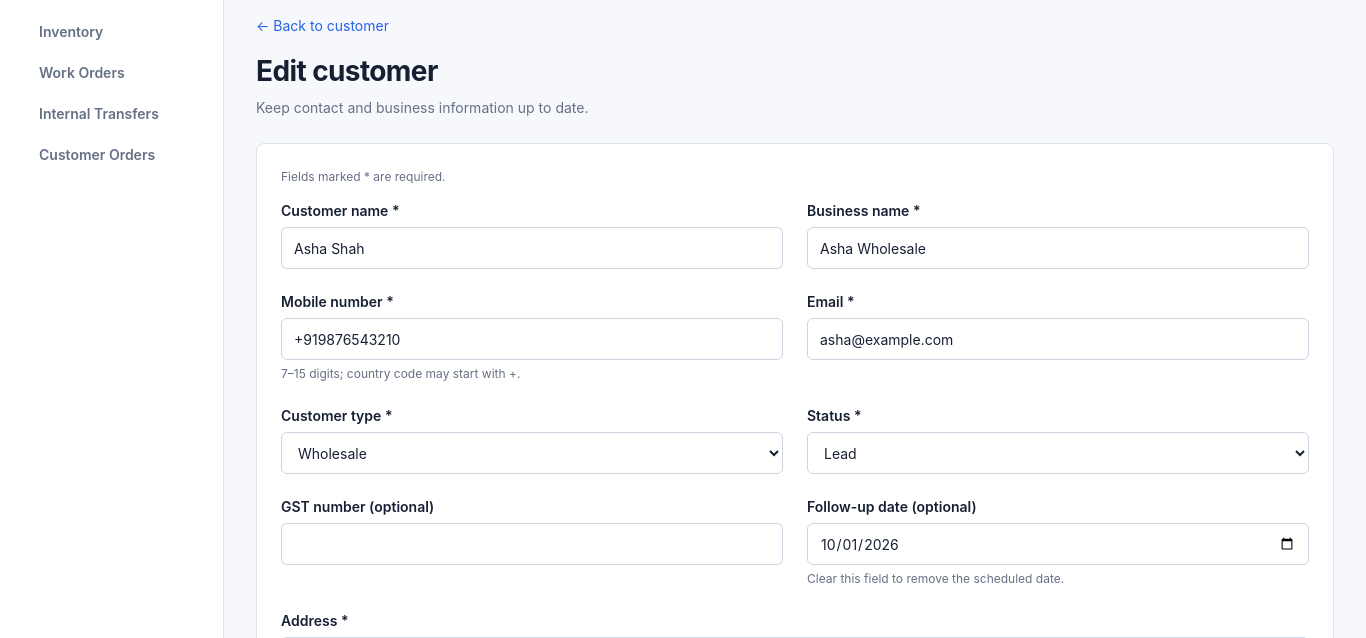
Test: customer forms and history › preserves edited values and shows server field errors
The image size is (1366, 638).
Replace the text in the field labelled "Customer name *" with "Updated Asha" at {"x": 532, "y": 248}, box [281, 227, 783, 269]
(page scrolled)
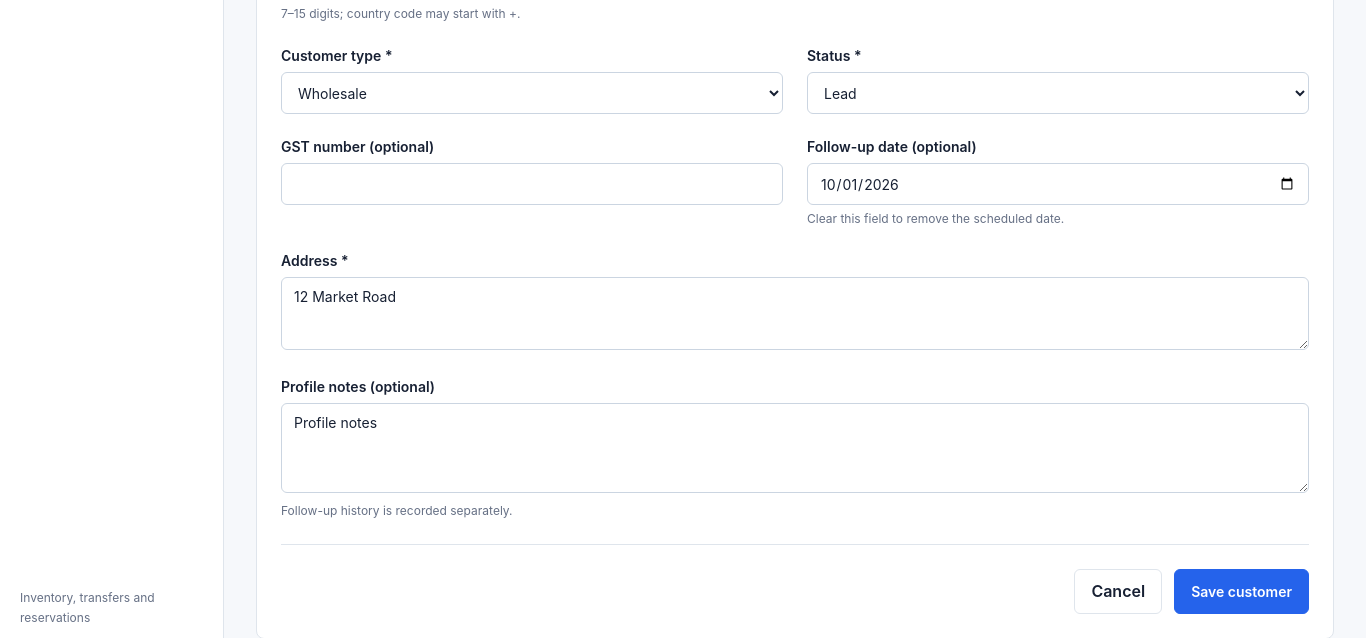
Click the button "Save customer" at {"x": 1242, "y": 592}, box [1174, 569, 1309, 614]
(page scrolled)
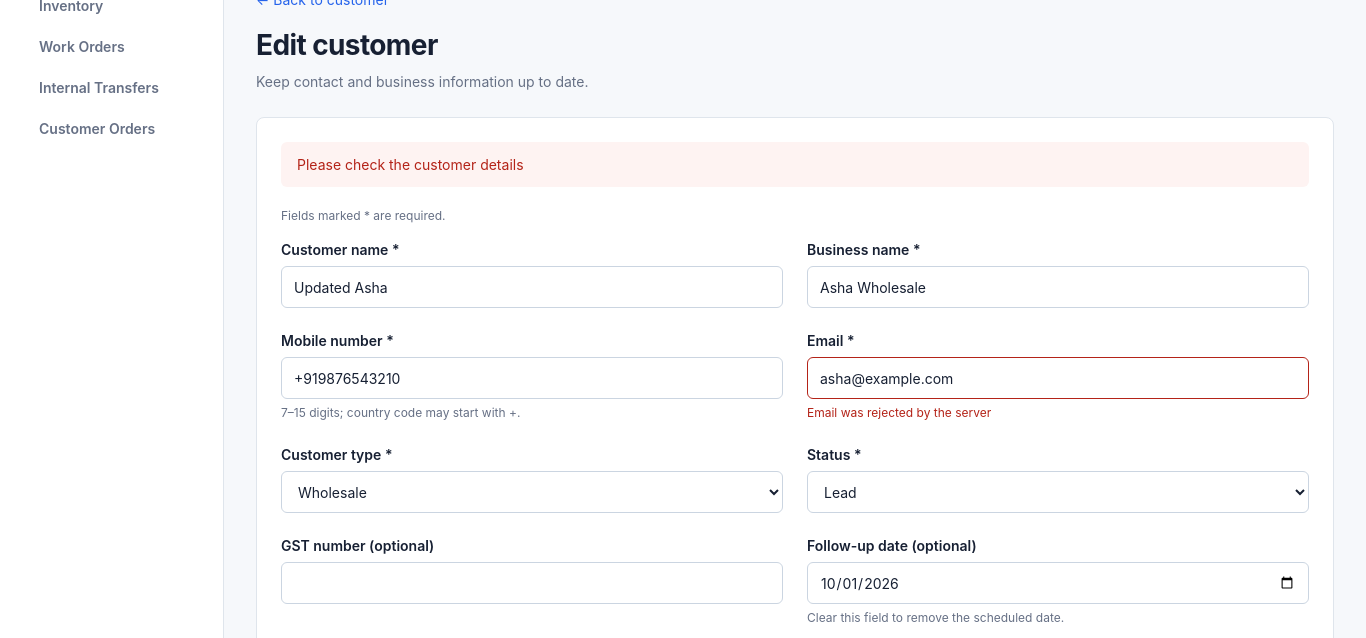
expect the text "Email was rejected by the server" is shown: met, box [807, 405, 991, 420]
